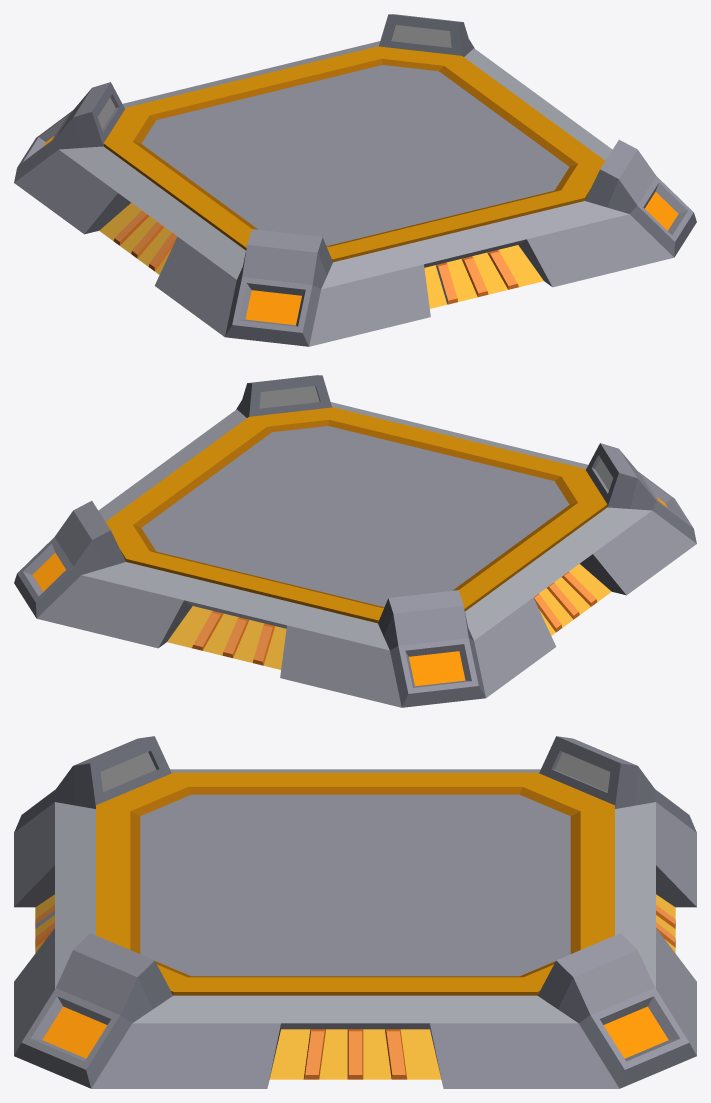
Rendered from Teleporter_01.glb.
The picture shows the model from 3 angles, top to bottom: view 1: azimuth 30°, elevation 25°; view 2: azimuth 150°, elevation 25°; view 3: azimuth 270°, elevation 25°; orthographic projection. The views are drawn at different scales.
Parts seen in each view (by area): view 1: Teleporter_01; view 2: Teleporter_01; view 3: Teleporter_01.
Part boxes in pixels (left/top/right/bottom): Teleporter_01: left=14, top=14, right=696, bottom=346; Teleporter_01: left=14, top=375, right=696, bottom=707; Teleporter_01: left=14, top=736, right=696, bottom=1088.
Size of what is drawn, in the model's own units: 2.9 by 0.4518 by 2.9.
2 materials, 2 textured.
